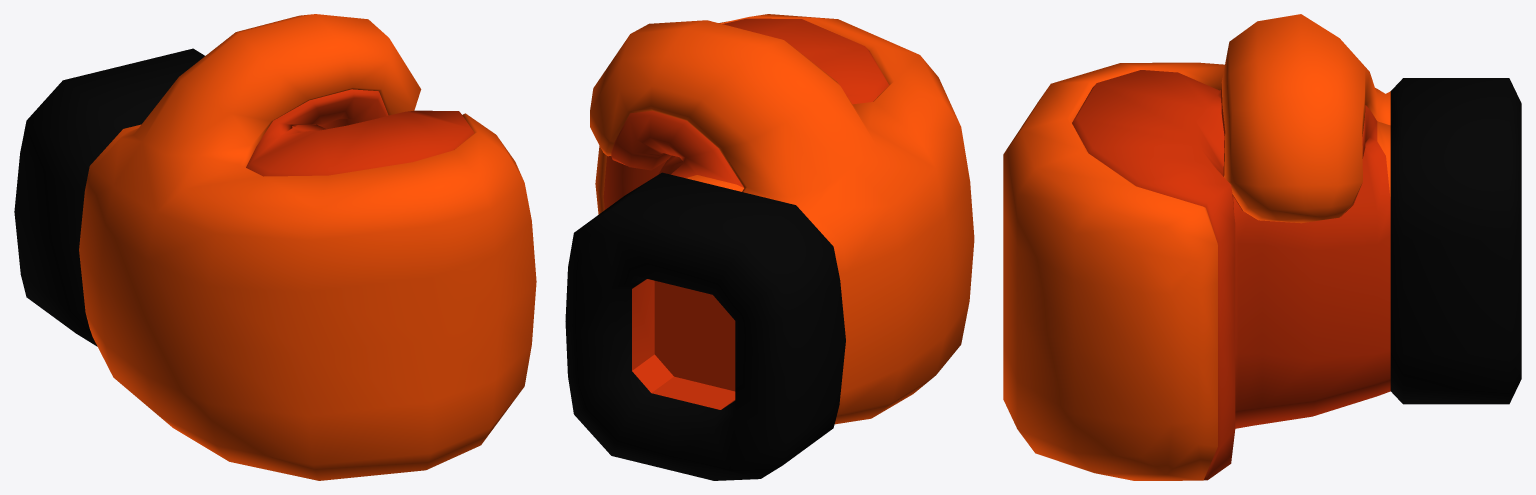
File: glove.glb
3 renders of one model, left to right at view 1: azimuth 30°, elevation 25°; view 2: azimuth 150°, elevation 25°; view 3: azimuth 270°, elevation 25°, orthographic. The views are drawn at different scales.
Parts seen in each view (by area): view 1: boxingGlove_0; view 2: boxingGlove_0; view 3: boxingGlove_0.
Part boxes in pixels (x1,y1,x2,y2): boxingGlove_0: [14, 14, 536, 480]; boxingGlove_0: [565, 14, 974, 480]; boxingGlove_0: [1003, 14, 1521, 480].
Size of the model in its own units: 3.75 by 3.75 by 4.39.
